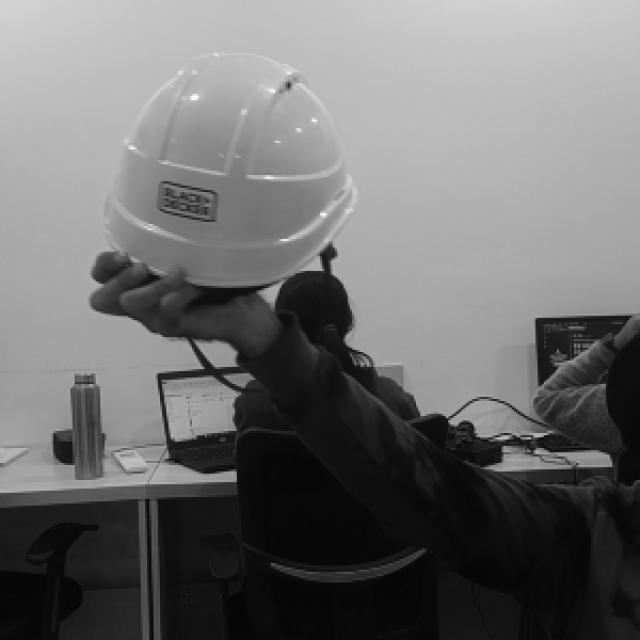safety_helmet: (100, 50, 357, 289)
